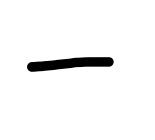minus: (28, 57, 113, 72)
